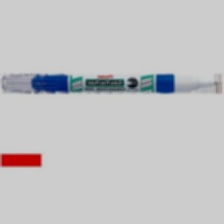correction_fluid: (0, 71, 224, 94)
